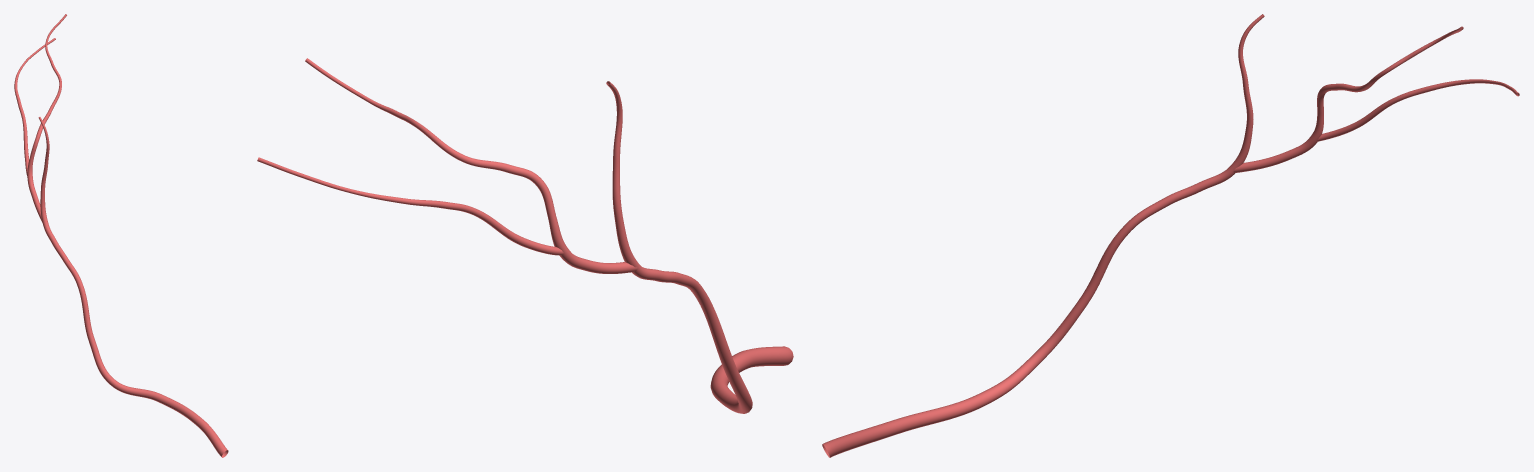
File: Parieto-occipital_artery.l_BezierCurve.226.glb
The picture shows the model from 3 angles, left to right: view 1: azimuth 30°, elevation 25°; view 2: azimuth 150°, elevation 25°; view 3: azimuth 270°, elevation 25°; orthographic projection. The views are drawn at different scales.
Visible parts, largest first — view 1: Parieto-occipital_artery.l_BezierCurve.226; view 2: Parieto-occipital_artery.l_BezierCurve.226; view 3: Parieto-occipital_artery.l_BezierCurve.226.
Boxes of the visible parts, x1=… form: Parieto-occipital_artery.l_BezierCurve.226: x1=14, y1=14, x2=228, y2=457; Parieto-occipital_artery.l_BezierCurve.226: x1=257, y1=58, x2=793, y2=413; Parieto-occipital_artery.l_BezierCurve.226: x1=822, y1=14, x2=1519, y2=457.
Size of the model in its own units: 0.0168 by 0.0451 by 0.0618.
